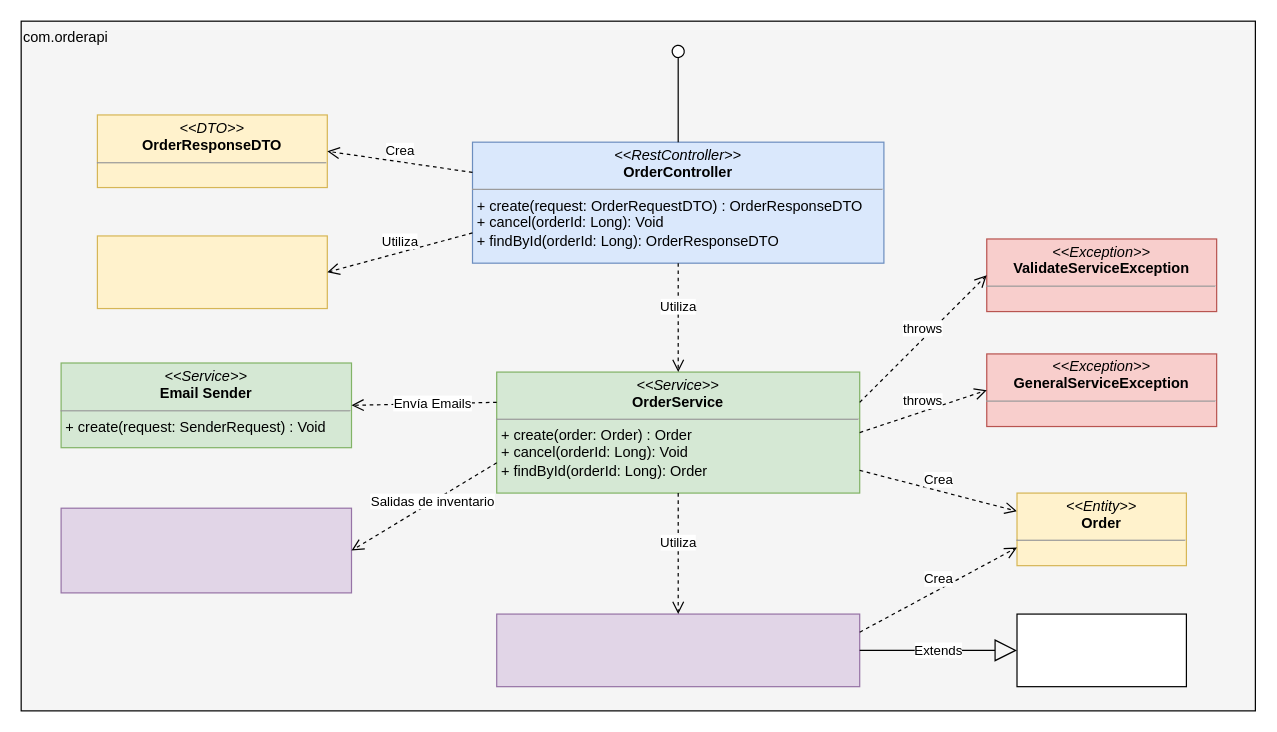
The diagram is 1277 pixels wide and 732 high, and some of its shapes have lost their labels. The centre of each missing label's shape, as x and y in pixels:
"<<DTO>> OrderRequestDTO" belongs at [211,272].
"<<Facade>> WarehouseFacade + output(request: OutputRequest) : Void" belongs at [206,550].
"<<Interfaz>> JpaRepository" belongs at [1101,650].
"<<JpaRepository>> OrderRespository" belongs at [677,650].
